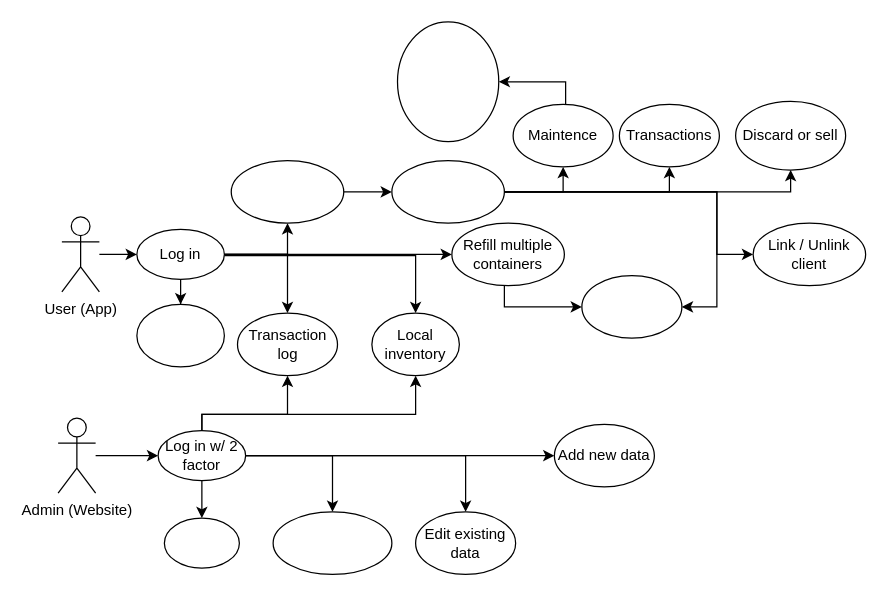
This 888x596 diagram has some shape labels left out. The centre of each missing label's shape, as x and y in pixels:
Choose act and alter data manually.: (447,81)
Container details: (287,191)
Download Monthly report: (332,542)
Log out: (201,542)
Log out / switch user: (180,335)
Refill container: (631,306)
Register Act's: (447,191)
